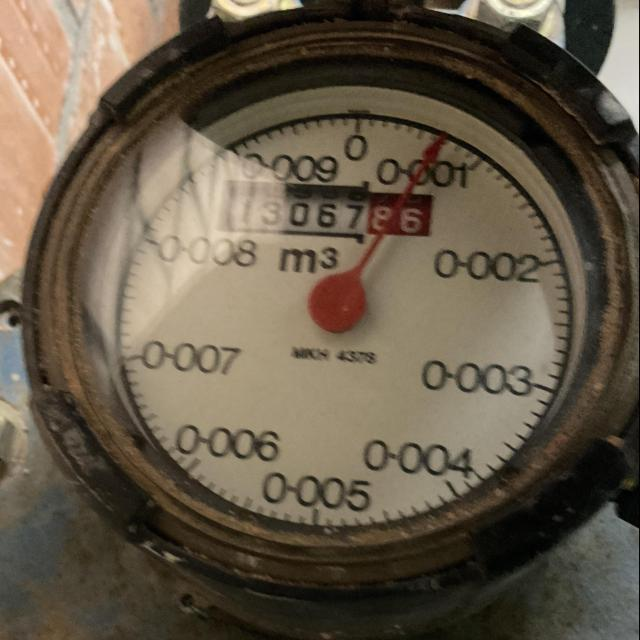gaz_meter: (29, 7, 638, 561)
indication: (223, 178, 432, 238)
